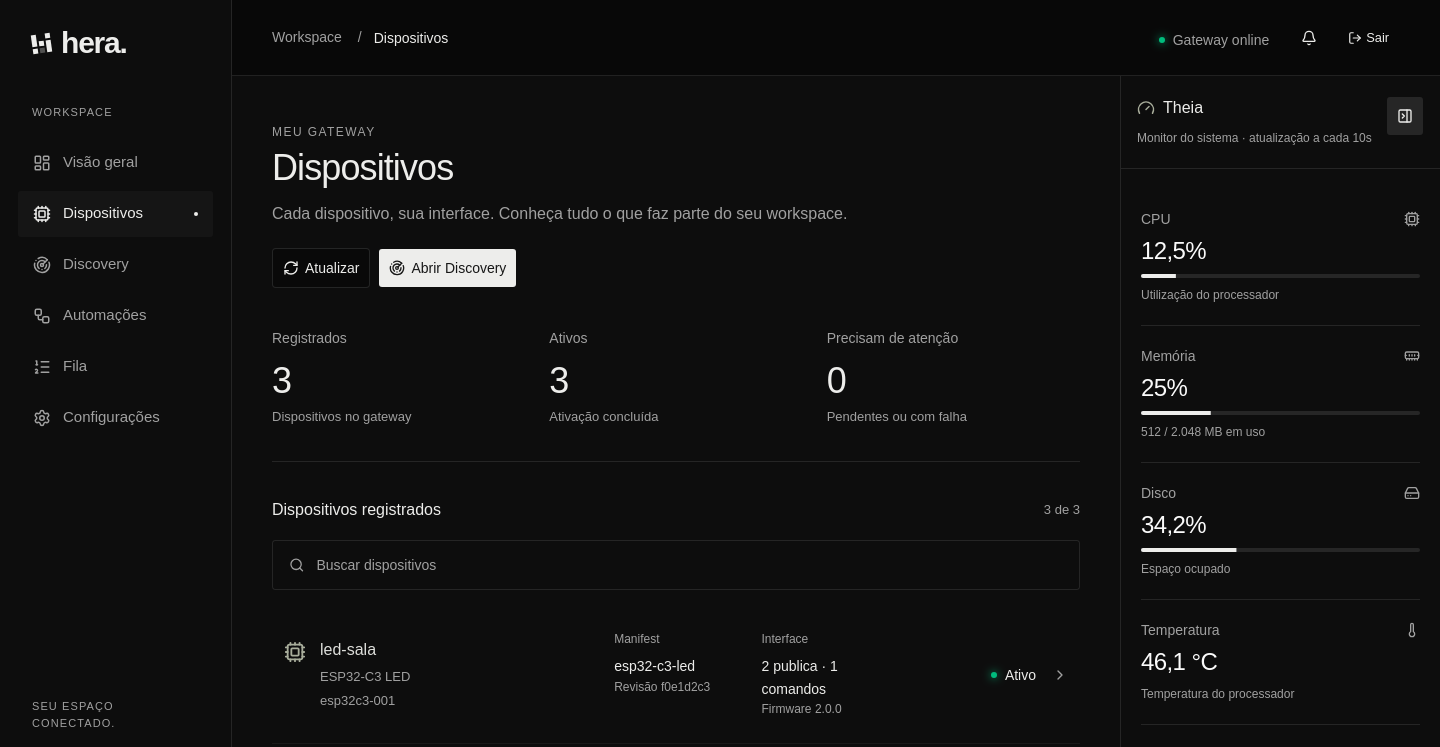
it: searches real data and restores results on /devices
The image size is (1440, 747).
In the search field labelled "Buscar dispositivos": (690, 565) x1=316 y1=541 x2=1063 y2=589, type "orangepi-001"
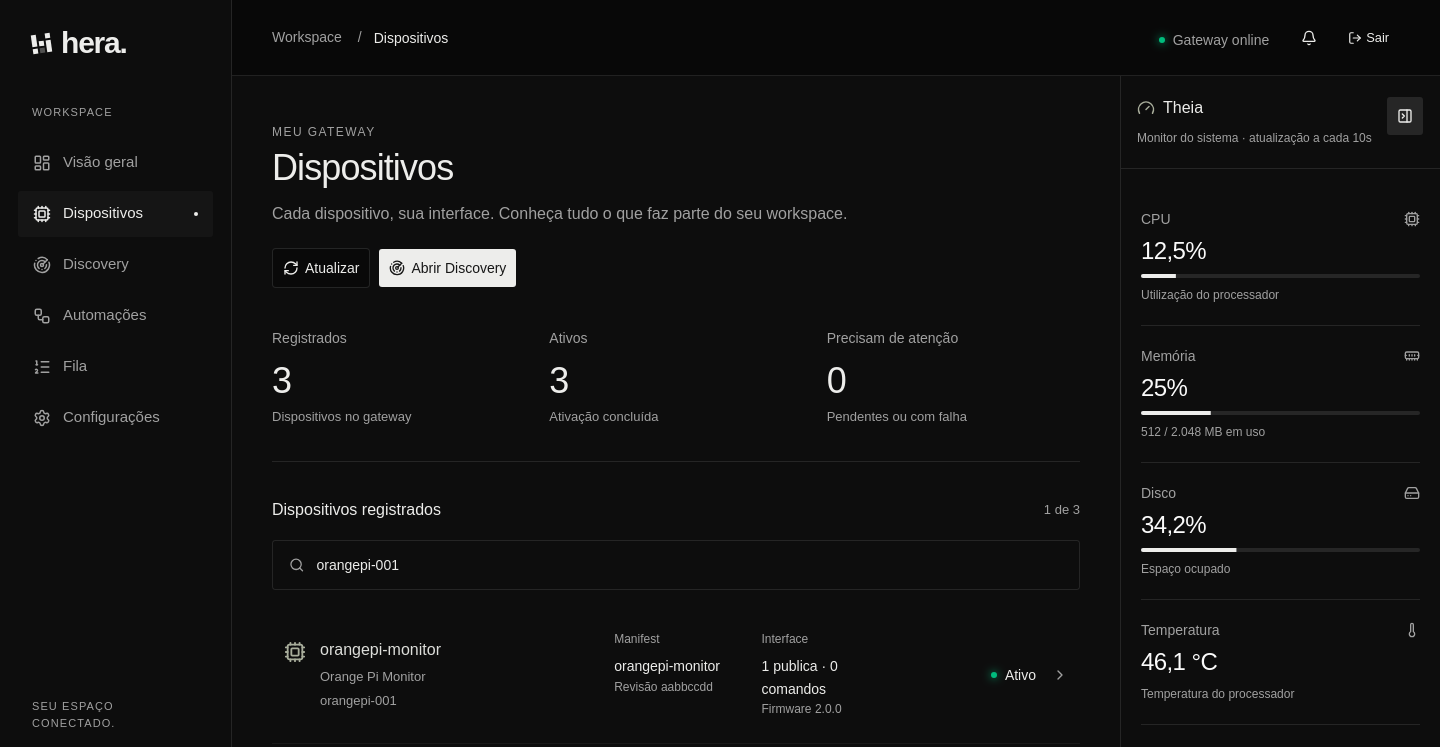
Expected: the link "orangepi-monitor" is shown, x1=272 y1=606 x2=1080 y2=743
Expected: the link "led-sala" is gone
Replace the text in the search field named "Buscar dispositivos" with "no-such-item": (690, 565) x1=316 y1=541 x2=1063 y2=589
(page scrolled)
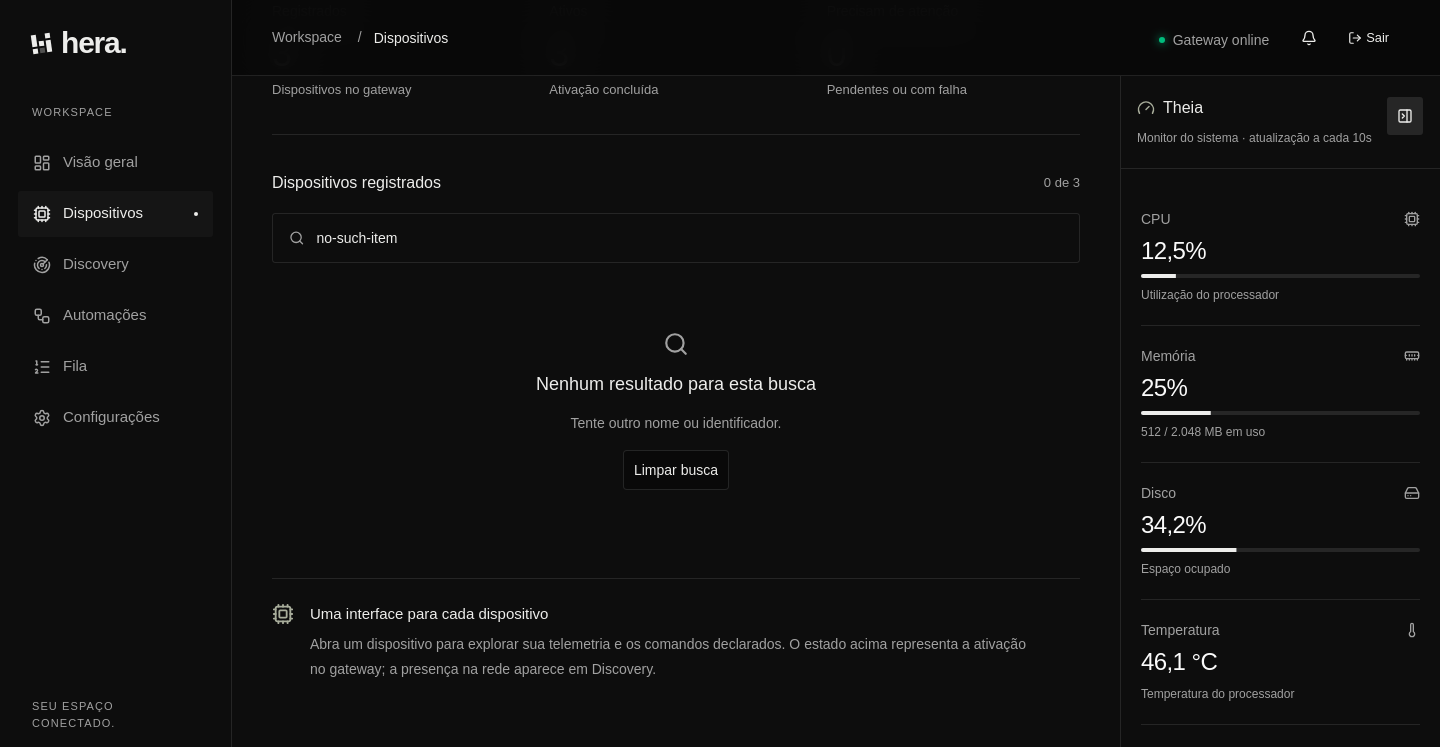
Expected: the heading "Nenhum resultado para esta busca" is shown, x1=536 y1=371 x2=816 y2=398
Click the button "Limpar busca": (676, 470) x1=623 y1=450 x2=729 y2=490
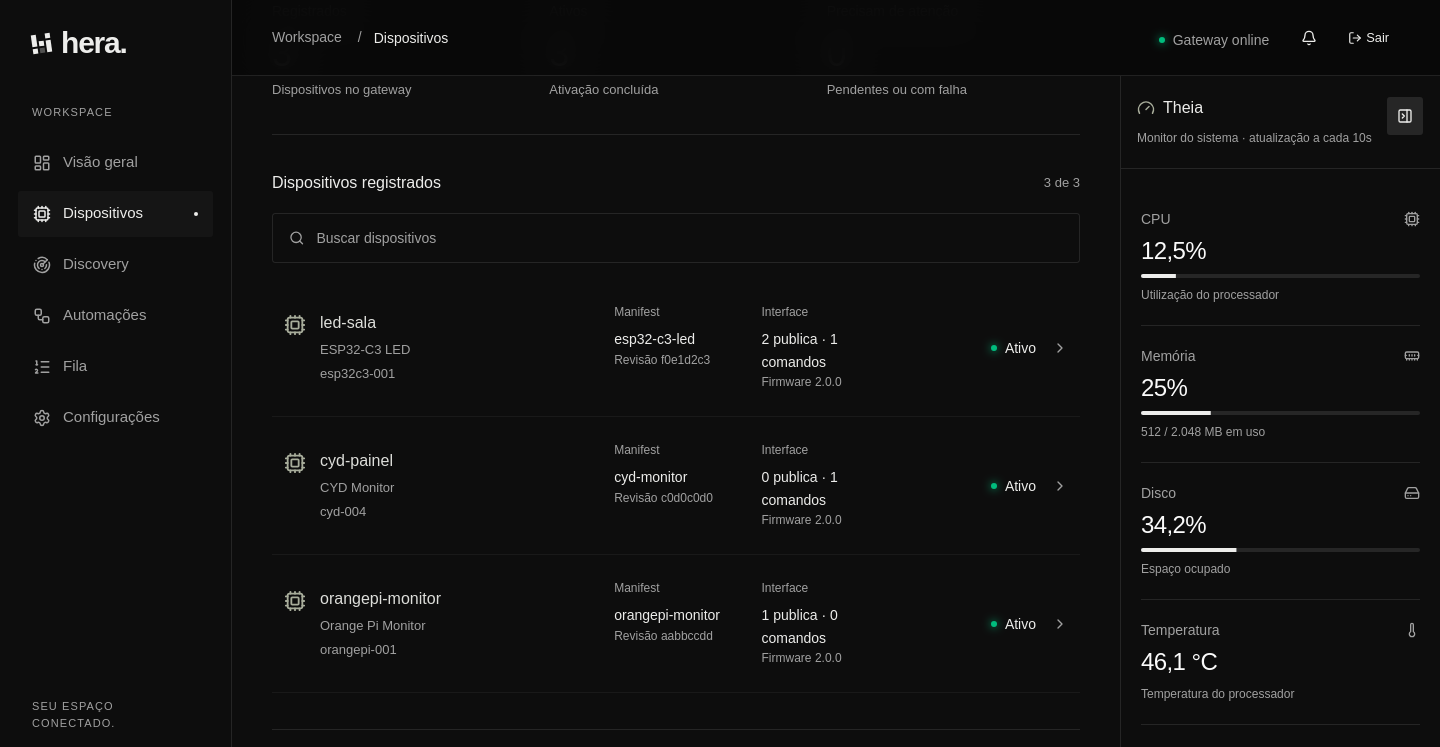
Expected: the search field labelled "Buscar dispositivos" is empty, x1=316 y1=214 x2=1063 y2=262
Expected: the link "orangepi-monitor" is shown, x1=272 y1=555 x2=1080 y2=692
Expected: the link "led-sala" is shown, x1=272 y1=279 x2=1080 y2=416
